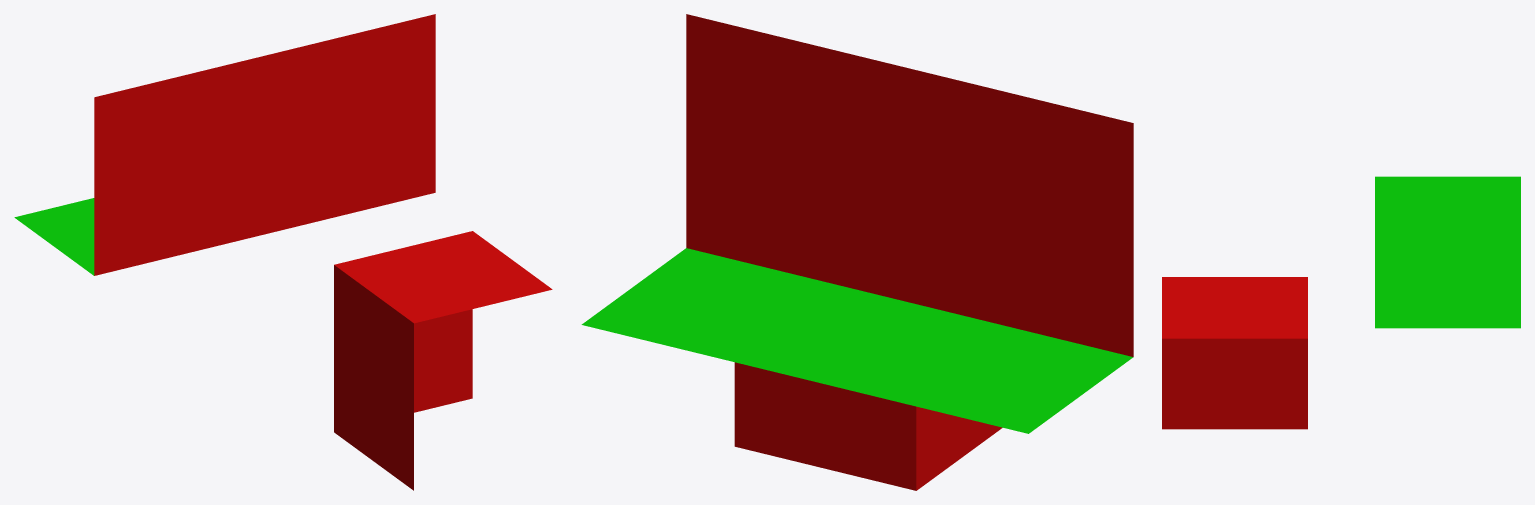
The picture shows the model from 3 angles, left to right: view 1: azimuth 30°, elevation 25°; view 2: azimuth 150°, elevation 25°; view 3: azimuth 270°, elevation 25°; orthographic projection. The views are drawn at different scales.
Parts seen in each view (by area): view 1: None_W_E_E_A_W_A_E_A_None; view 2: None_W_E_E_A_W_A_E_A_None; view 3: None_W_E_E_A_W_A_E_A_None.
Boxes of the visible parts, <box> form: None_W_E_E_A_W_A_E_A_None: <box>14,14,552,490</box>; None_W_E_E_A_W_A_E_A_None: <box>581,14,1133,490</box>; None_W_E_E_A_W_A_E_A_None: <box>1162,176,1520,429</box>.
Bounding box in the file's own units: 100 × 100 × 100.
